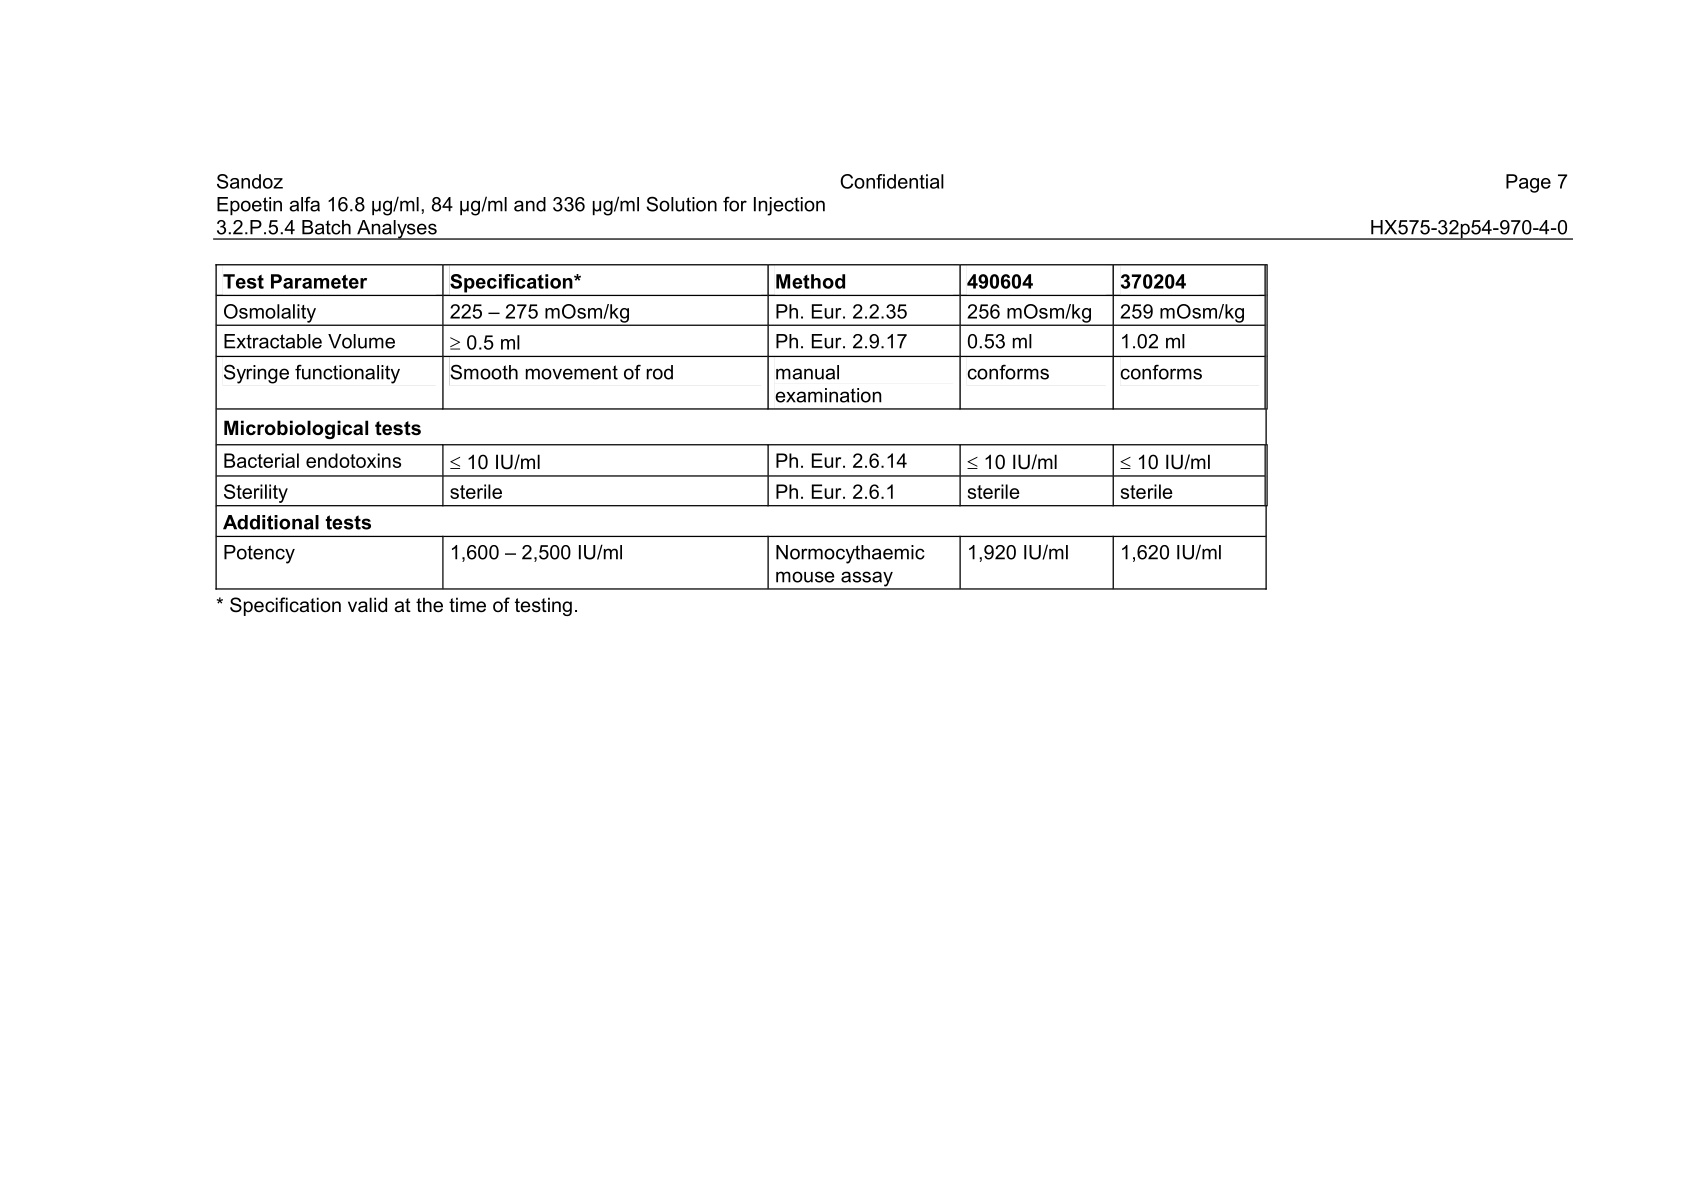merged_cells: (214, 262, 1269, 592)
